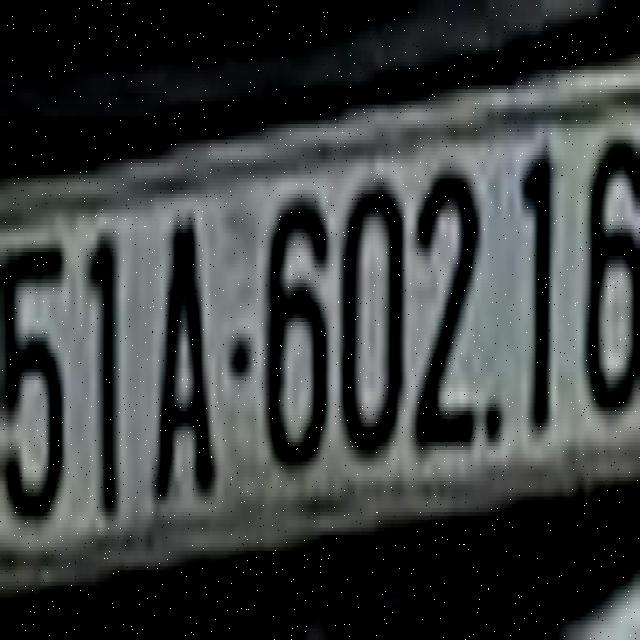0: (340, 165, 405, 463)
1: (84, 212, 125, 526), (518, 130, 556, 444)
2: (414, 153, 480, 460)
5: (2, 223, 68, 529)
6: (264, 172, 328, 490), (586, 118, 639, 429)
A: (152, 196, 217, 506)
